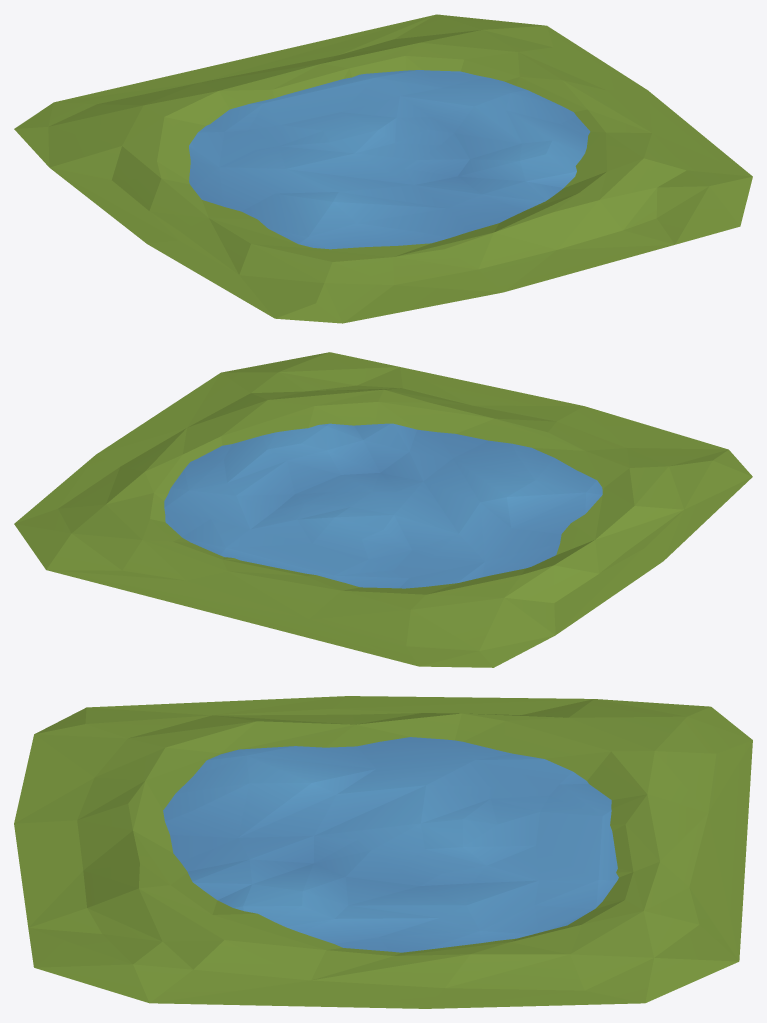
The model's file is Mesh_Landscape_Pond_01.FBX.
The picture shows the model from 3 angles, top to bottom: view 1: azimuth 30°, elevation 25°; view 2: azimuth 150°, elevation 25°; view 3: azimuth 270°, elevation 25°; orthographic projection. The views are drawn at different scales.
Visible parts, largest first — view 1: Mesh_Landscape_Pond_01; view 2: Mesh_Landscape_Pond_01; view 3: Mesh_Landscape_Pond_01.
Part boxes in pixels (x1,y1,x2,y2): Mesh_Landscape_Pond_01: (14, 14, 752, 323); Mesh_Landscape_Pond_01: (14, 352, 752, 667); Mesh_Landscape_Pond_01: (14, 696, 752, 1008).
Bounding box in the file's own units: 595 × 594 × 27.84.
